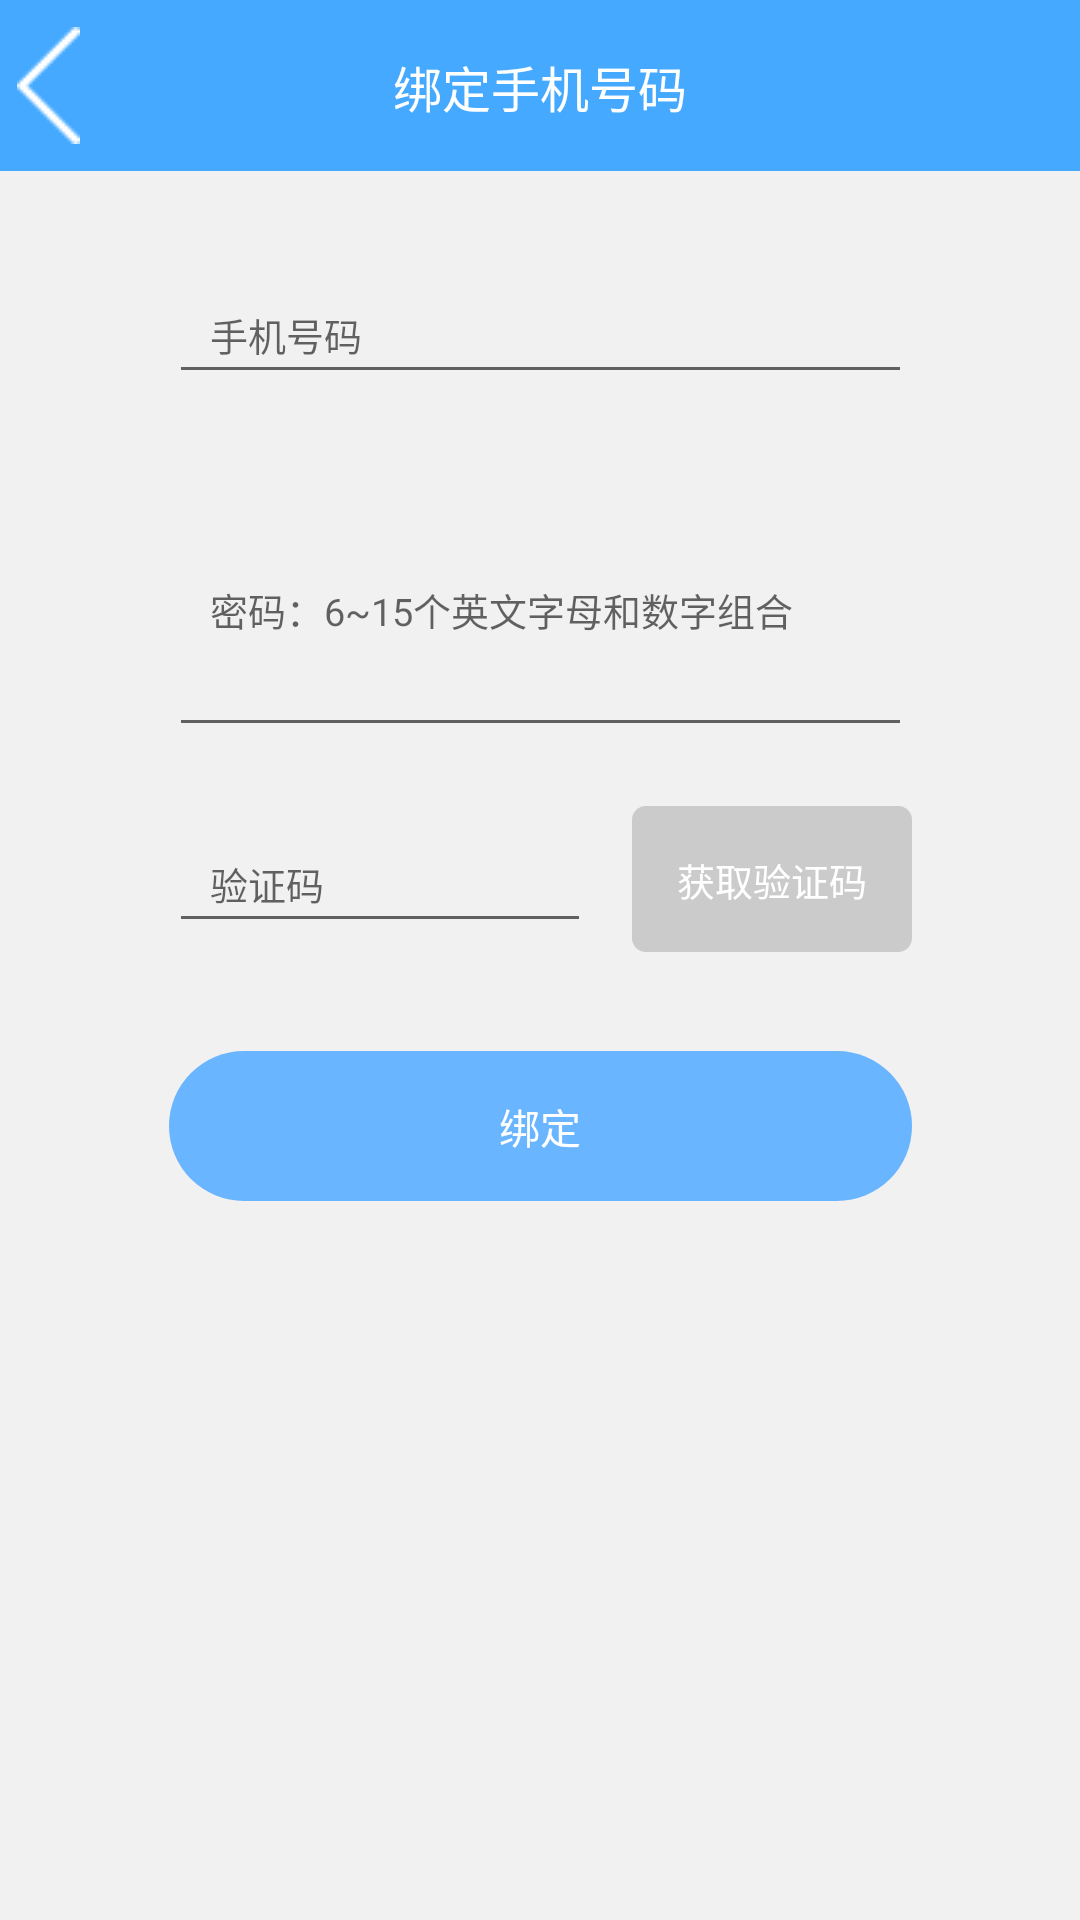

Locate icon controls on the screen. Image size 1080px x 1920px, boxes as [x1=x1, y1=y1, x2=x2, y2=y2].
back: [x1=17, y1=27, x2=80, y2=144]
